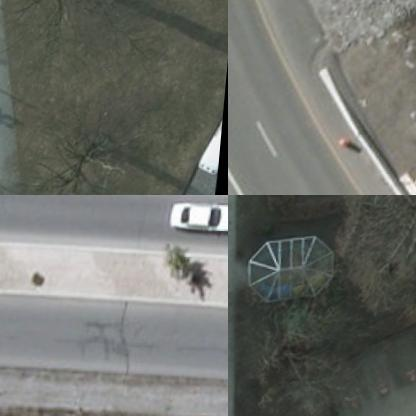car: (165, 200, 227, 237)
